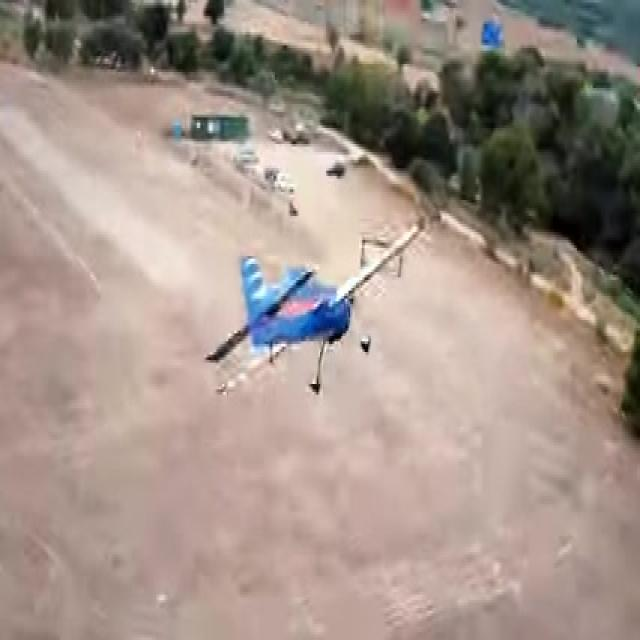iha: (204, 214, 424, 393)
